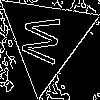W: (20, 13, 69, 67)
